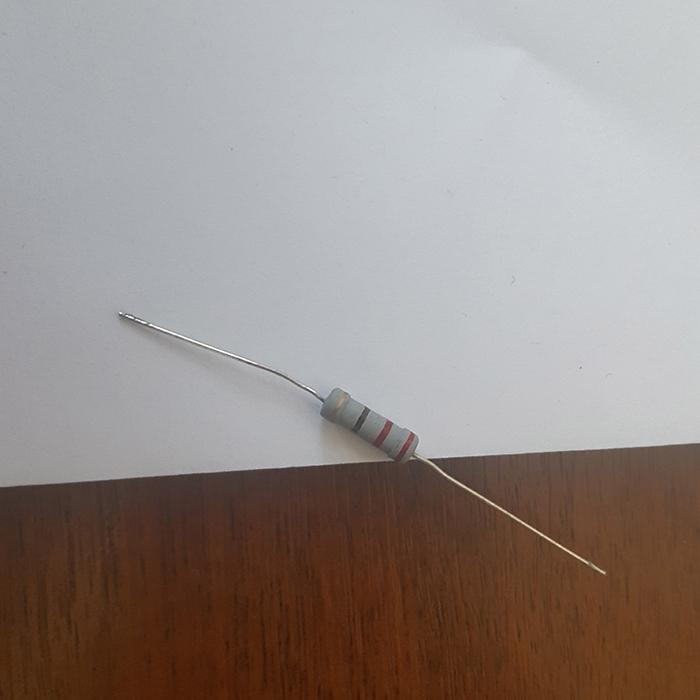resistor: (318, 386, 420, 462)
